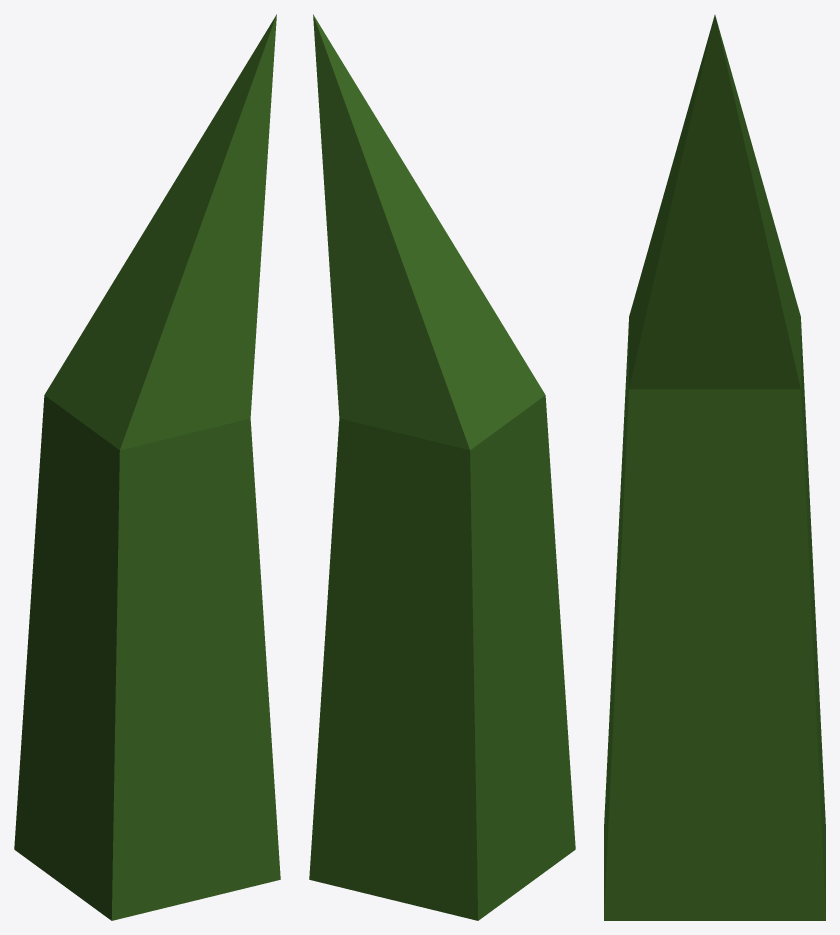
The model's file is grass.gltf.
3 views of the same model, side by side, from view 1: azimuth 30°, elevation 25°; view 2: azimuth 150°, elevation 25°; view 3: azimuth 270°, elevation 25° (orthographic). The views are drawn at different scales.
Parts seen in each view (by area): view 1: Cube; view 2: Cube; view 3: Cube.
Part boxes in pixels (<box>): Cube: <box>14,14,280,920</box>; Cube: <box>309,14,575,920</box>; Cube: <box>604,15,825,920</box>.
Bounding box in the file's own units: 0.2048 × 0.7494 × 0.1618.
Materials: 1 (1 with a texture image).
